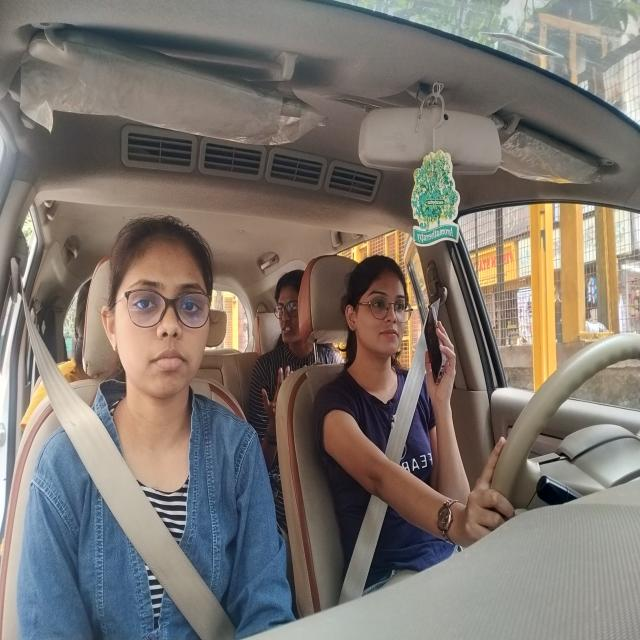mobile: (421, 304, 445, 391)
person: (99, 212, 214, 399), (344, 249, 414, 388), (272, 268, 309, 340)
